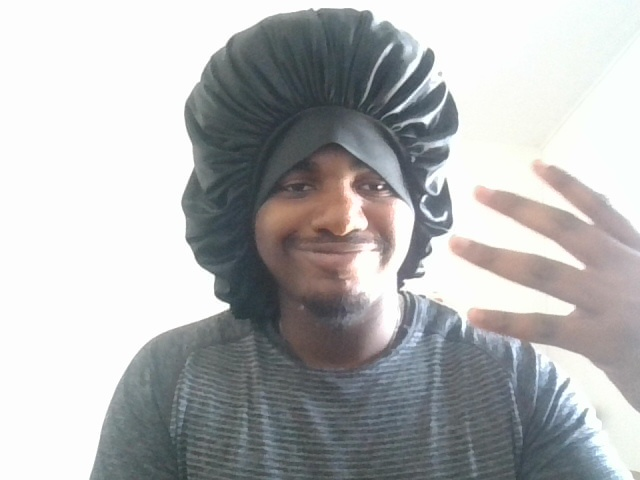I am Better Than Yu: (452, 156, 640, 410)
